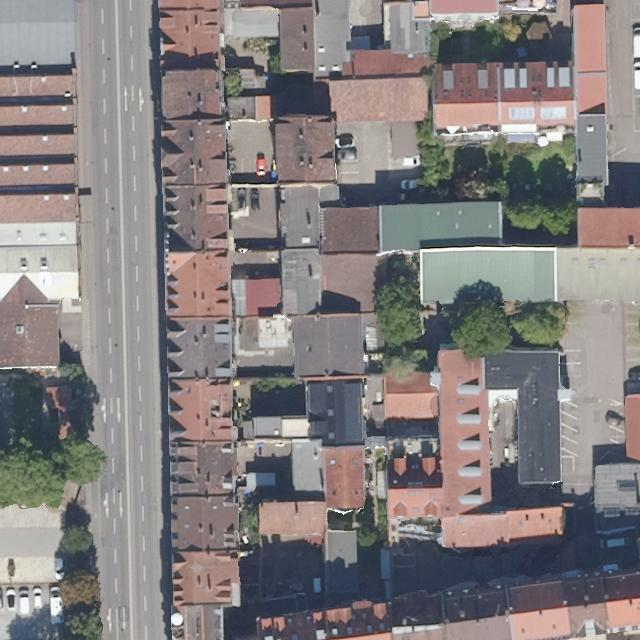PV: (539, 106, 566, 121), (510, 107, 533, 120)
